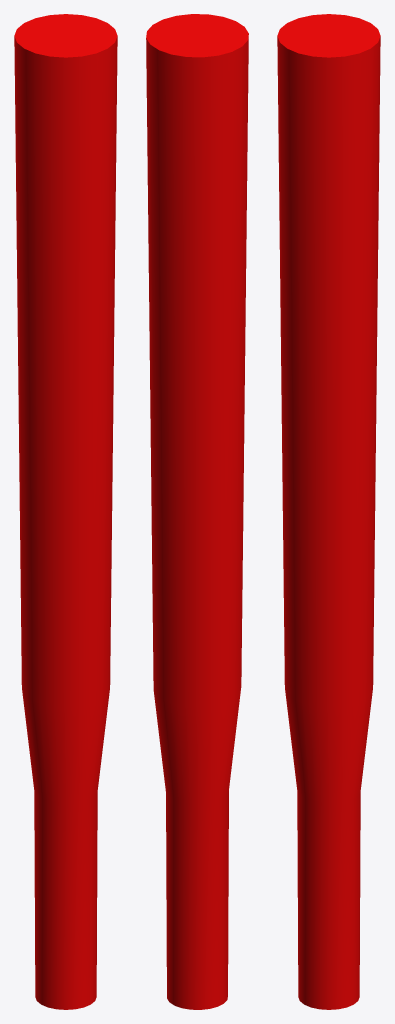
Rendered from refill.fbx.
3 renders of one model, left to right at view 1: azimuth 90°, elevation 25°; view 2: azimuth 150°, elevation 25°; view 3: azimuth 270°, elevation 25°, orthographic.
Parts seen in each view (by area): view 1: pCylinder2; view 2: pCylinder2; view 3: pCylinder2.
Part boxes in pixels (<box>): pCylinder2: <box>14,14,117,1009</box>; pCylinder2: <box>146,14,248,1009</box>; pCylinder2: <box>277,14,380,1009</box>.
Size of the model in its own units: 1.14 by 11.73 by 1.14.
